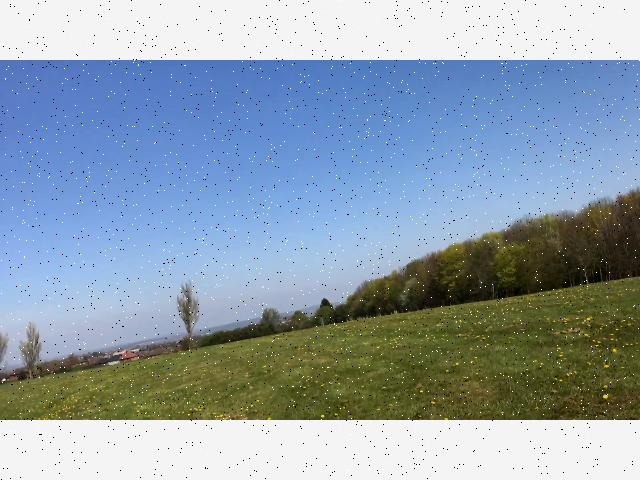Anti-Drone: (206, 278, 228, 293)
